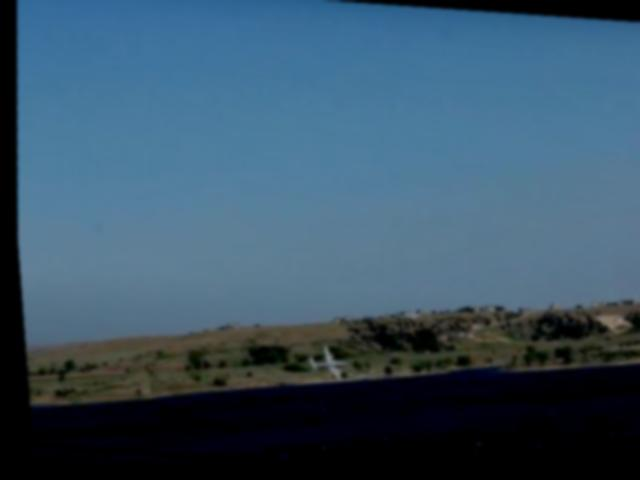iha: (301, 344, 346, 378)
